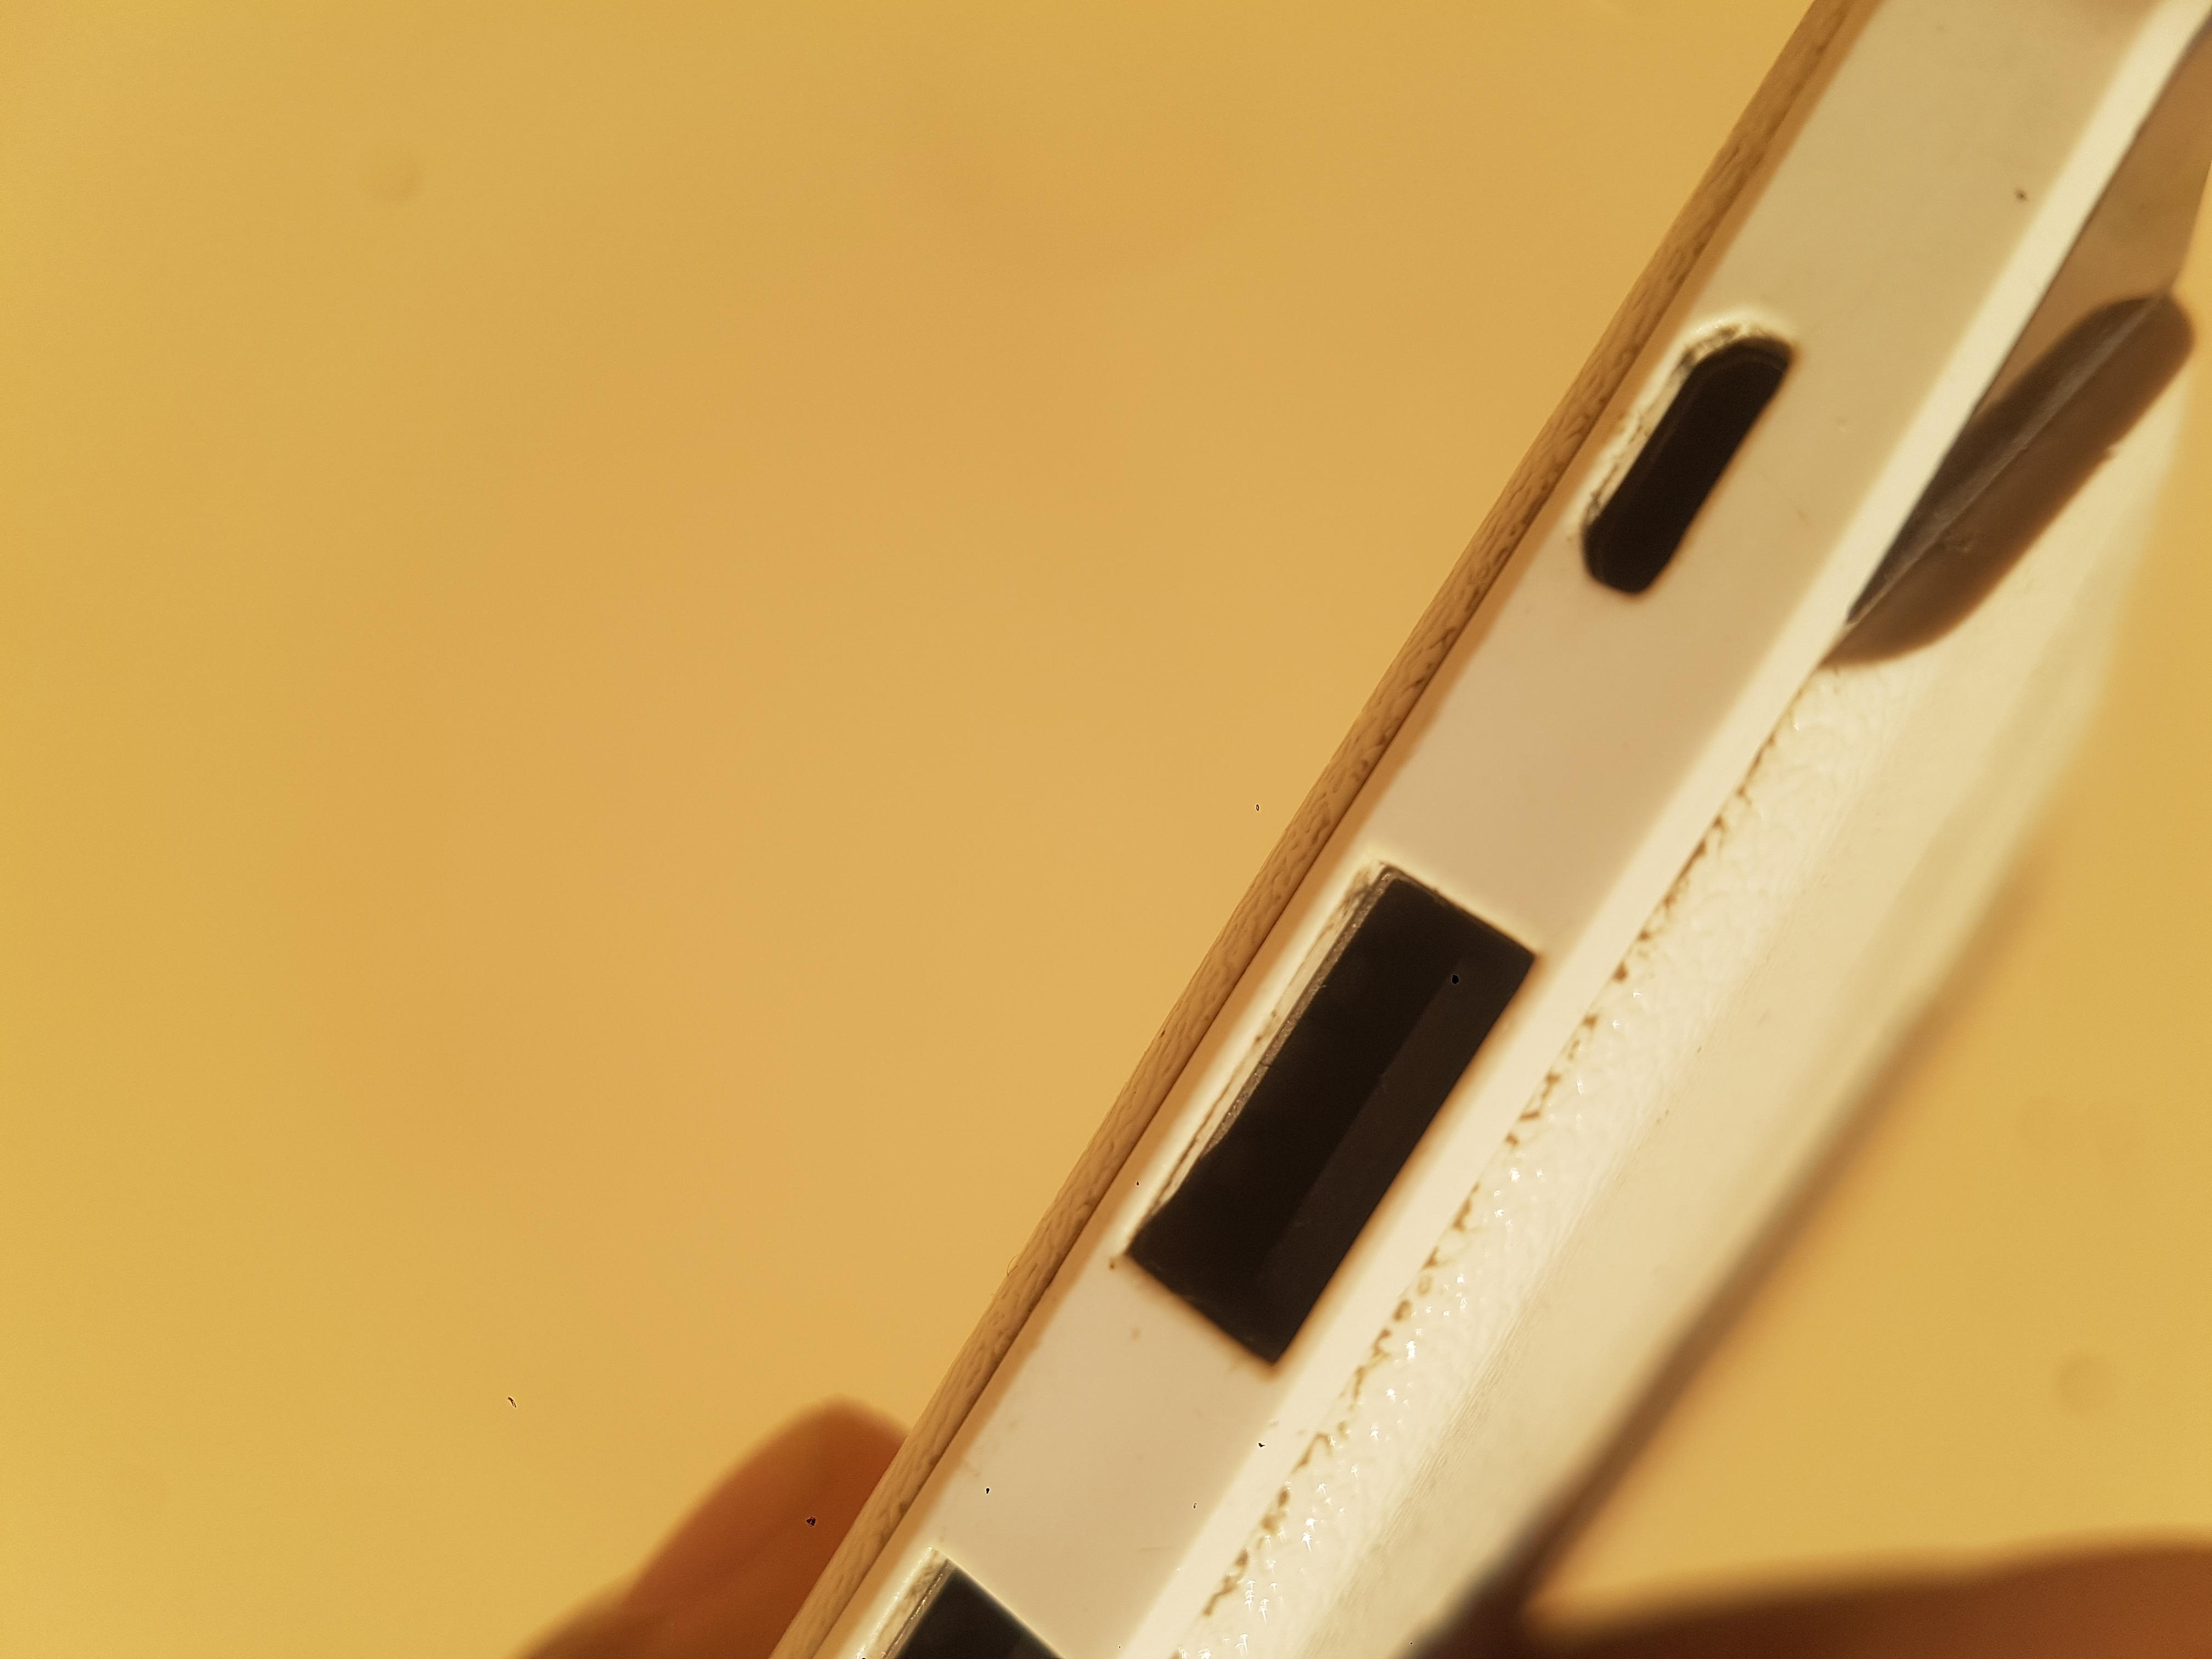electronic: (0, 511, 2212, 1659)
